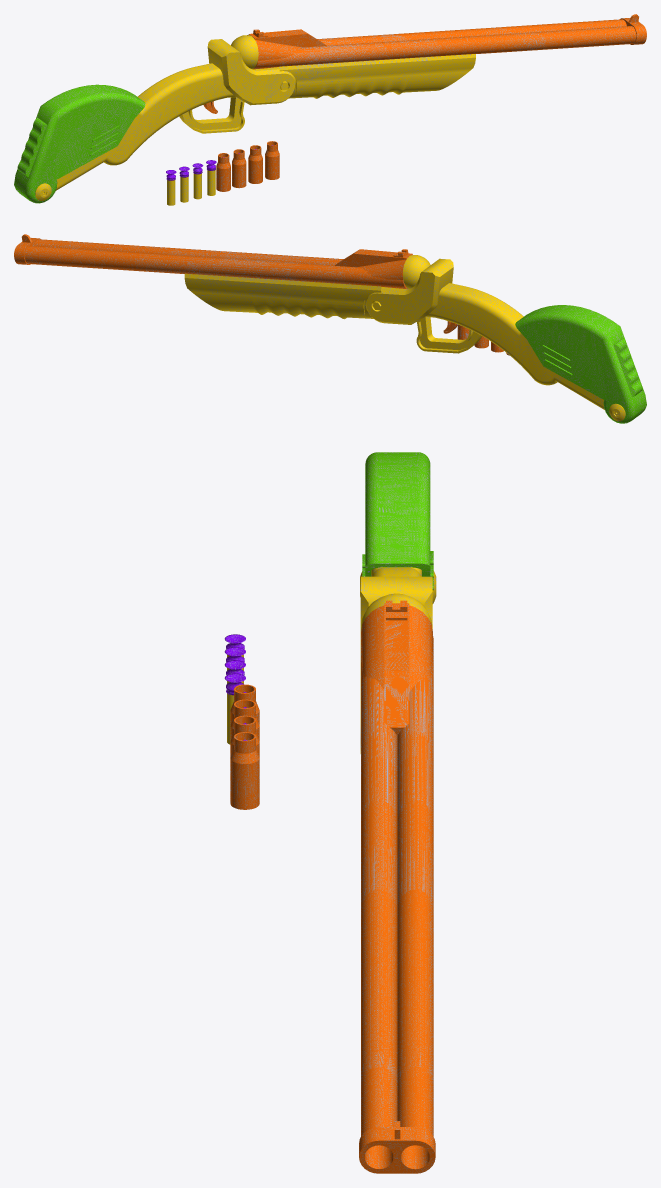
3 renders of one model, top to bottom at view 1: azimuth 30°, elevation 25°; view 2: azimuth 150°, elevation 25°; view 3: azimuth 270°, elevation 25°, orthographic. The views are drawn at different scales.
Parts seen in each view (by area): view 1: group_1, group_12, group_11, group_3, group_7, group_14, group_13, group_8 (×2), group_9, group_18, group_16, group_19 (+2 smaller); view 2: group_1, group_14, group_11, group_3, group_7, group_12, group_13, group_8 (×2), group_9, group_15; view 3: group_14, group_12, group_1, group_13, group_15, group_7, group_20.
Boxes of the visible parts, bbox=[...] form: group_1: bbox=[14, 84, 145, 203]; group_12: bbox=[254, 26, 636, 68]; group_11: bbox=[279, 54, 475, 98]; group_3: bbox=[55, 63, 236, 190]; group_7: bbox=[207, 39, 295, 105]; group_14: bbox=[317, 19, 626, 45]; group_13: bbox=[247, 29, 326, 69]; group_8 (×2): bbox=[179, 97, 244, 133]; group_9: bbox=[231, 35, 258, 69]; group_18: bbox=[232, 149, 246, 188]; group_16: bbox=[216, 153, 230, 191]; group_19: bbox=[248, 145, 262, 183]; group_1: bbox=[515, 305, 646, 423]; group_14: bbox=[24, 246, 407, 288]; group_11: bbox=[184, 273, 381, 319]; group_3: bbox=[425, 283, 604, 409]; group_7: bbox=[365, 258, 453, 324]; group_12: bbox=[34, 239, 343, 265]; group_13: bbox=[335, 249, 412, 289]; group_8 (×2): bbox=[416, 317, 481, 353]; group_9: bbox=[403, 255, 430, 288]; group_15: bbox=[14, 237, 40, 264]; group_14: bbox=[397, 636, 433, 1136]; group_12: bbox=[361, 640, 397, 1135]; group_1: bbox=[365, 452, 430, 576]; group_13: bbox=[361, 603, 432, 734]; group_15: bbox=[359, 1127, 435, 1173]; group_7: bbox=[360, 576, 432, 753]; group_20: bbox=[230, 732, 259, 809].
Size of what is drawn, in the model's own units: 70.07 by 10.38 by 12.28.
